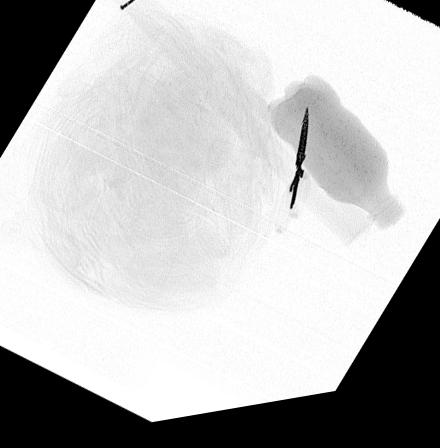Scissors: (270, 114, 311, 245)
